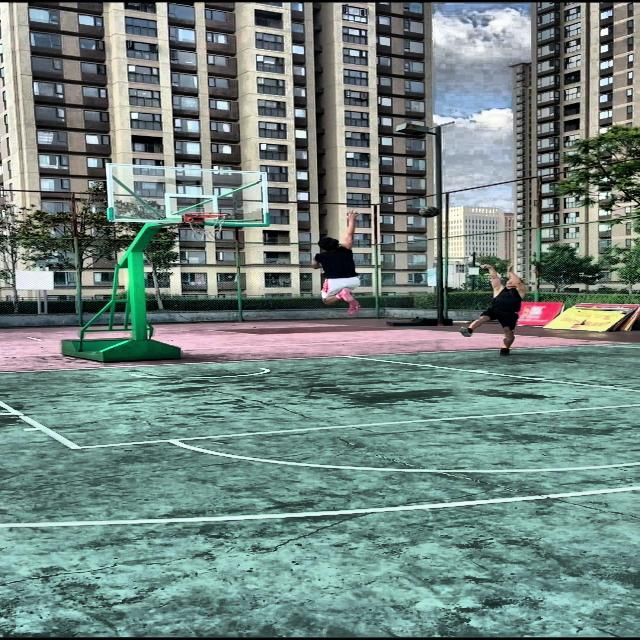board: (417, 206, 439, 217)
rim: (181, 210, 232, 241)
